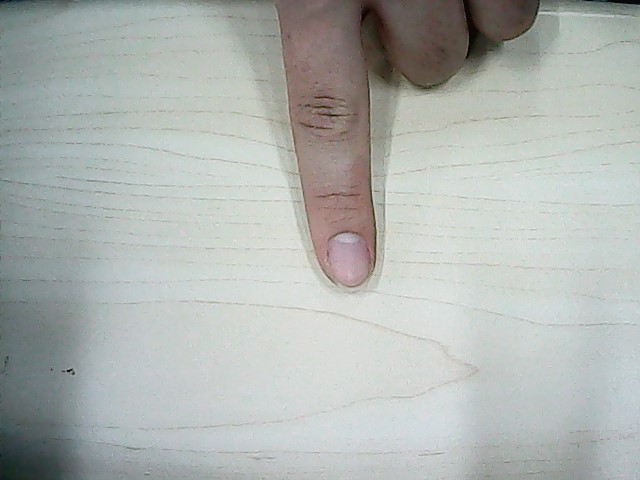nail: (323, 232, 372, 285)
